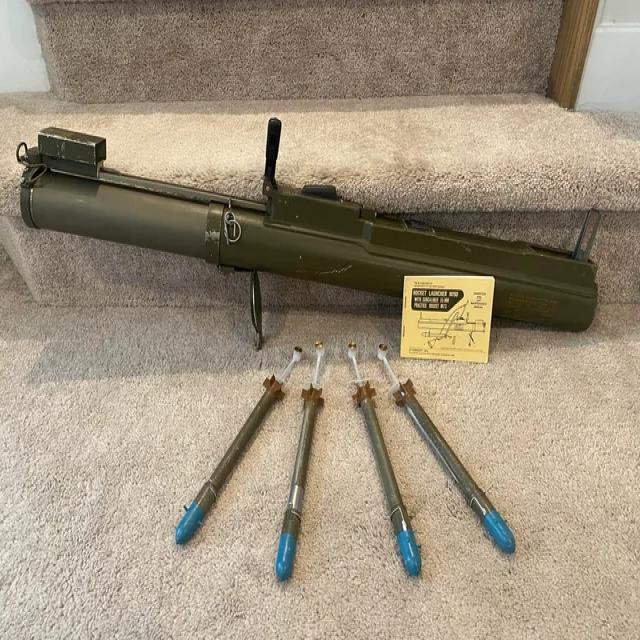bazooka: (14, 116, 620, 354)
